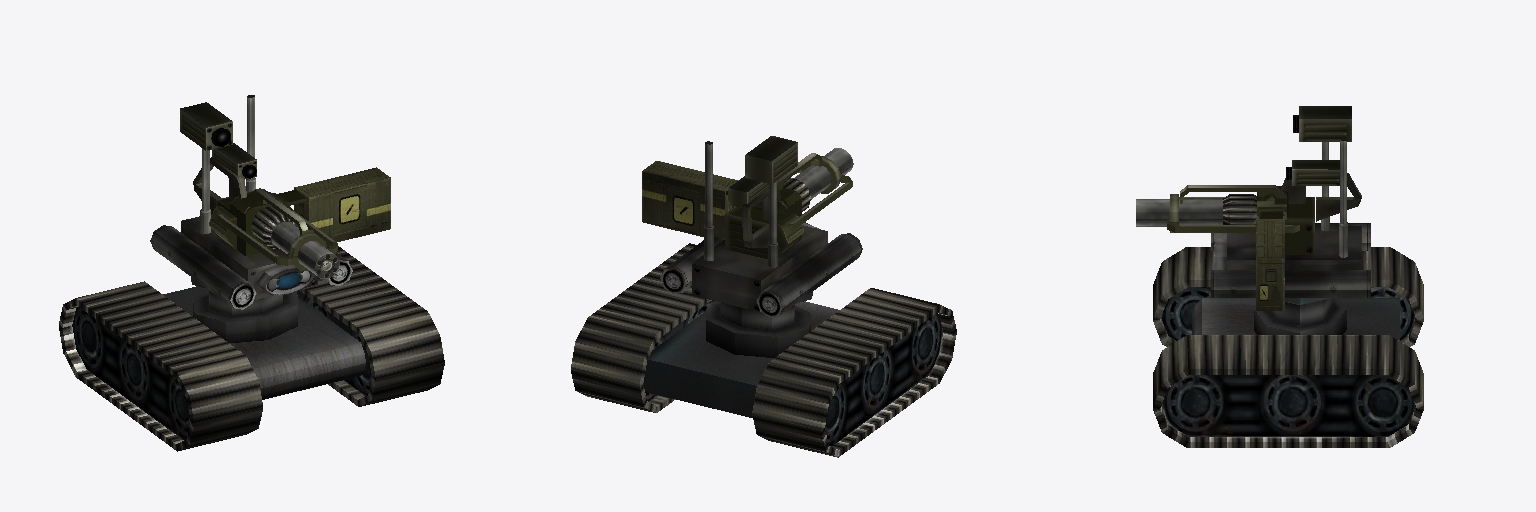
3 views of the same model, side by side, from view 1: azimuth 30°, elevation 25°; view 2: azimuth 150°, elevation 25°; view 3: azimuth 270°, elevation 25° (orthographic).
Visible parts, largest first — view 1: Polygon_Po; view 2: Polygon_Po; view 3: Polygon_Po.
Part boxes in pixels (bbox=[...]): Polygon_Po: bbox=[59, 95, 444, 451]; Polygon_Po: bbox=[571, 136, 956, 457]; Polygon_Po: bbox=[1136, 106, 1423, 447].
Bounding box in the file's own units: 195 × 194 × 194.
Materials: 1 (1 with a texture image).